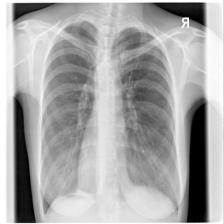tuberculosis: (37, 13, 186, 224)
